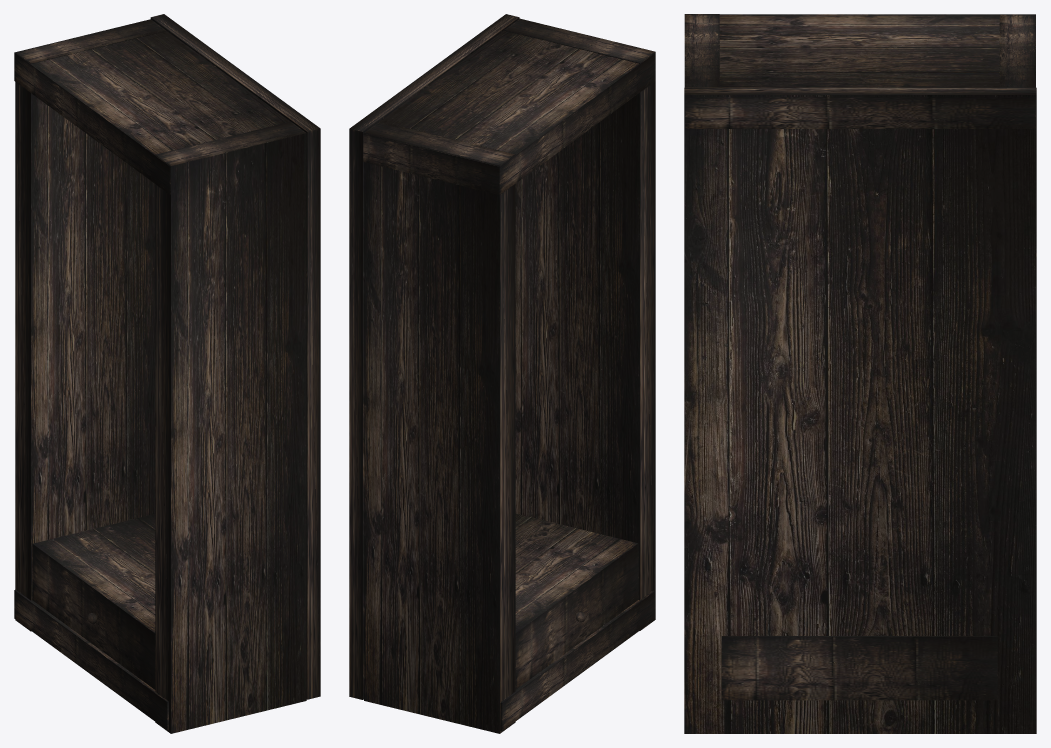
File: WardrobeNoDoor.fbx
The picture shows the model from 3 angles, left to right: view 1: azimuth 30°, elevation 25°; view 2: azimuth 150°, elevation 25°; view 3: azimuth 270°, elevation 25°; orthographic projection. The views are drawn at different scales.
Visible parts, largest first — view 1: Cube_2, Cube_3, Cube_5, Cube_1, Cube, Cube_4; view 2: Cube_3, Cube_2, Cube_5, Cube_1, Cube, Cube_4; view 3: Cube, Cube_5, Cube_1, Cube_3, Cube_2.
Boxes of the visible parts, x1,y1,x2,y2 form: Cube_2: (155, 121, 306, 733); Cube_3: (15, 19, 166, 631); Cube_5: (14, 31, 290, 194); Cube_1: (32, 514, 155, 689); Cube: (150, 14, 320, 699); Cube_4: (14, 589, 168, 730); Cube_3: (364, 121, 515, 733); Cube_2: (504, 18, 655, 630); Cube_5: (363, 30, 655, 194); Cube_1: (515, 513, 638, 689); Cube: (349, 14, 519, 699); Cube_4: (500, 590, 655, 731); Cube: (684, 87, 1036, 733); Cube_5: (685, 14, 1035, 128); Cube_1: (721, 636, 997, 700); Cube_3: (999, 14, 1034, 87); Cube_2: (684, 14, 719, 87).
Bounding box in the file's own units: 116 × 401 × 200.
1 material, 1 textured.
